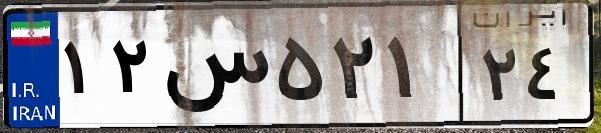1: (385, 28, 445, 110), (57, 26, 110, 100)
2: (330, 28, 385, 110), (475, 38, 525, 113), (110, 28, 158, 98)
4: (525, 38, 570, 115)
5: (270, 28, 330, 110)
س: (158, 20, 270, 120)
